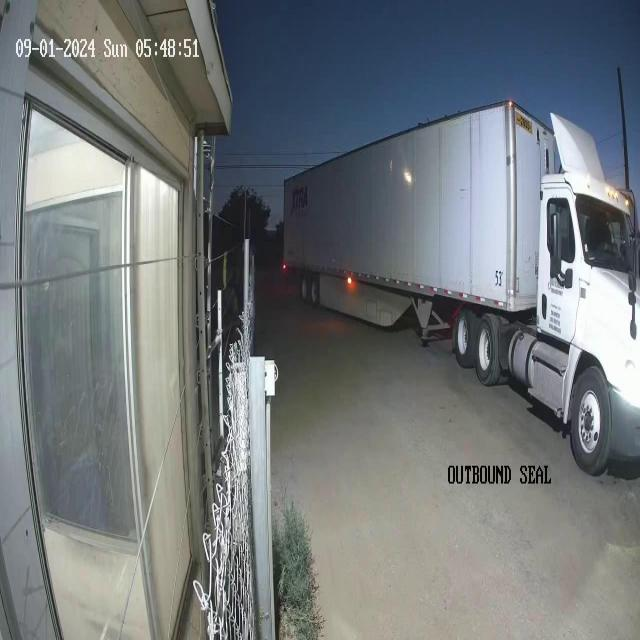TRUCK_IN: (282, 98, 555, 320)
